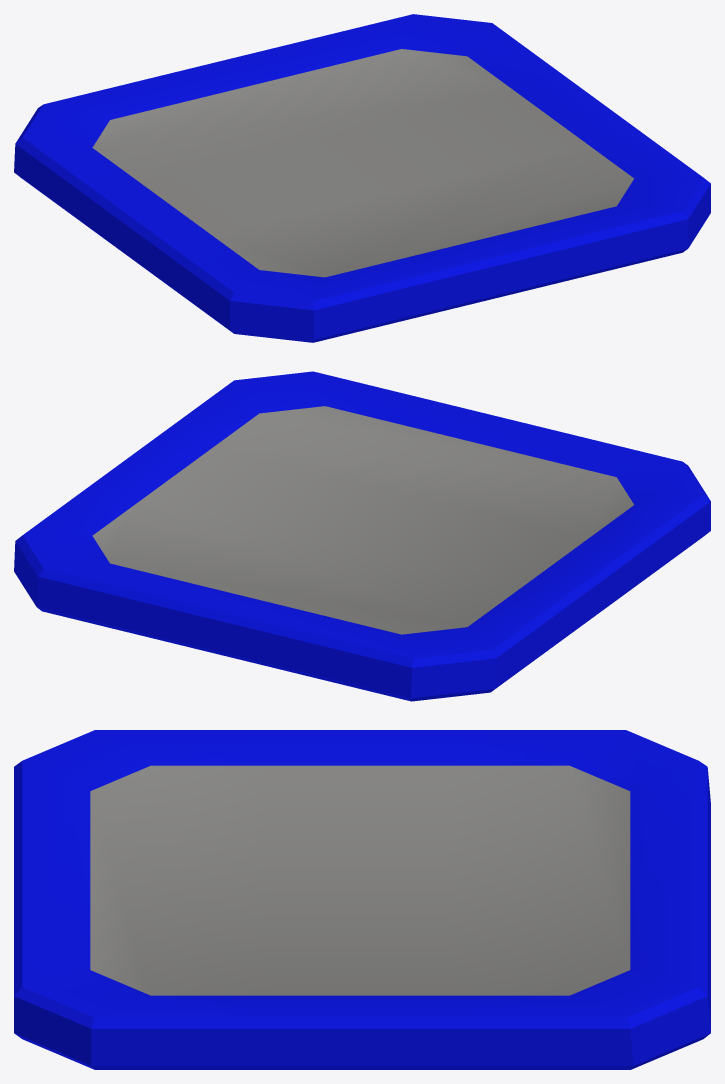
Rendered from 树底座.fbx.
3 views of the same model, one above another, from view 1: azimuth 30°, elevation 25°; view 2: azimuth 150°, elevation 25°; view 3: azimuth 270°, elevation 25° (orthographic). The views are drawn at different scales.
Visible parts, largest first — view 1: Box068; view 2: Box068; view 3: Box068.
Part boxes in pixels (left/top/right/bottom): Box068: left=14, top=14, right=710, bottom=342; Box068: left=14, top=371, right=710, bottom=701; Box068: left=14, top=730, right=710, bottom=1069.
Bounding box in the file's own units: 70.13 × 5.77 × 70.06.
